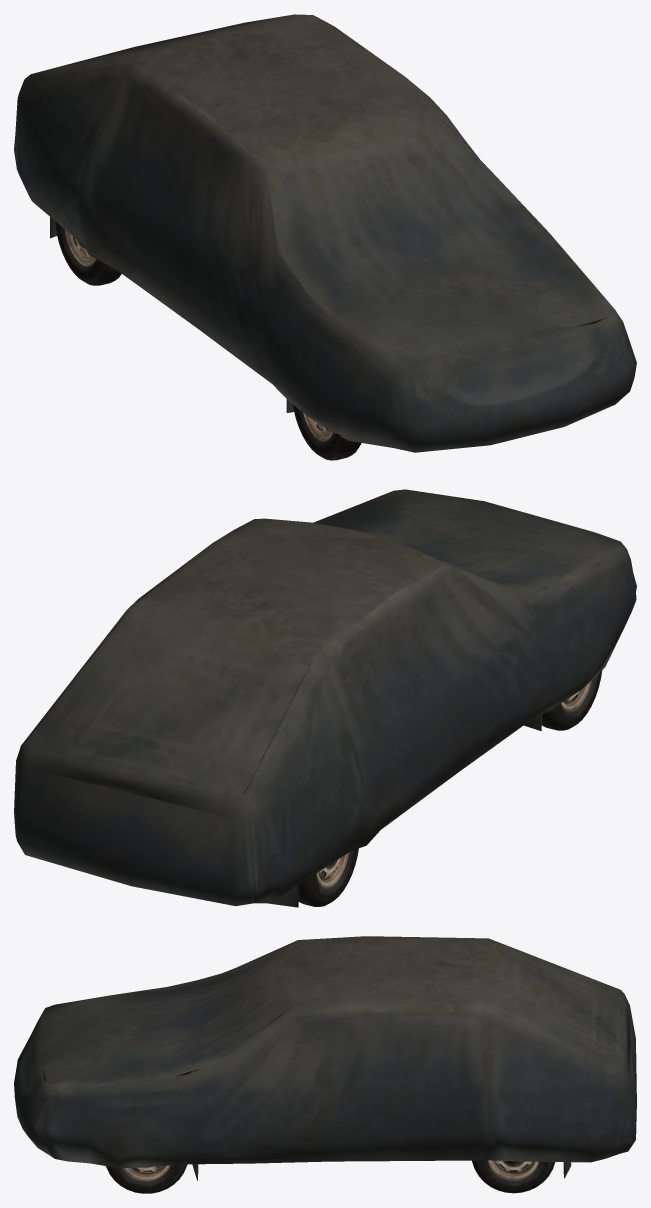
The model's file is covered_car.glb.
The picture shows the model from 3 angles, top to bottom: view 1: azimuth 30°, elevation 25°; view 2: azimuth 150°, elevation 25°; view 3: azimuth 270°, elevation 25°; orthographic projection. The views are drawn at different scales.
Parts seen in each view (by area): view 1: covered_car, covered_car_wheel_03, covered_car_wheel_02; view 2: covered_car, covered_car_wheel_03, covered_car_wheel_02; view 3: covered_car, covered_car_wheel_04, covered_car_wheel_01.
Boxes of the visible parts, <box> form: covered_car: <box>14,14,636,452</box>; covered_car_wheel_03: <box>55,221,121,285</box>; covered_car_wheel_02: <box>293,404,361,460</box>; covered_car: <box>14,489,636,907</box>; covered_car_wheel_03: <box>298,848,358,906</box>; covered_car_wheel_02: <box>541,670,602,730</box>; covered_car: <box>14,936,636,1180</box>; covered_car_wheel_04: <box>472,1160,555,1193</box>; covered_car_wheel_01: <box>106,1164,187,1193</box>.
Bounding box in the file's own units: 1.79 × 1.41 × 4.37.
1 material, 1 textured.
